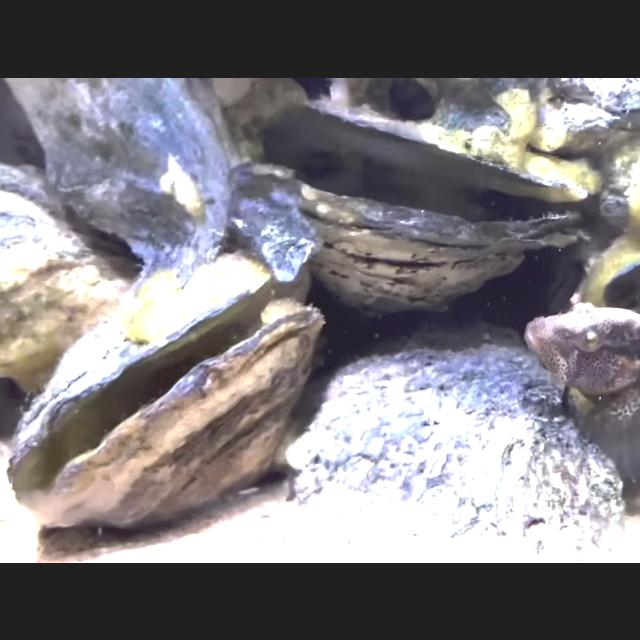Oyster-Closed: (10, 77, 234, 243), (0, 186, 130, 389)
Oyster-Open: (7, 252, 330, 528), (216, 91, 594, 303)
